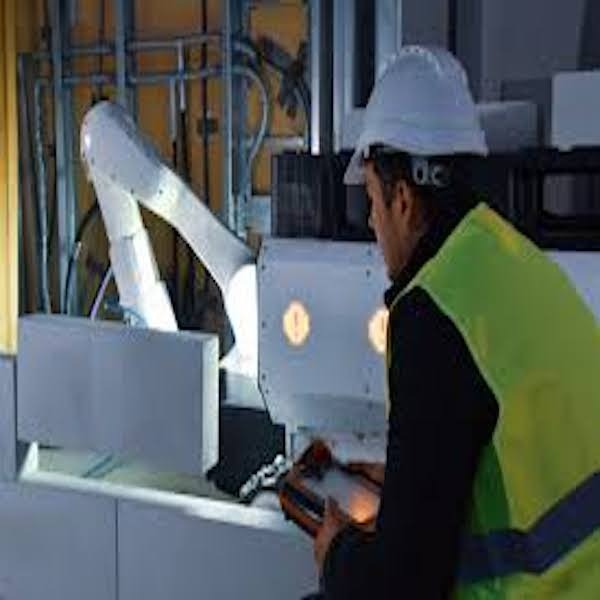helmet: (345, 46, 488, 158)
vest: (382, 237, 598, 598)
